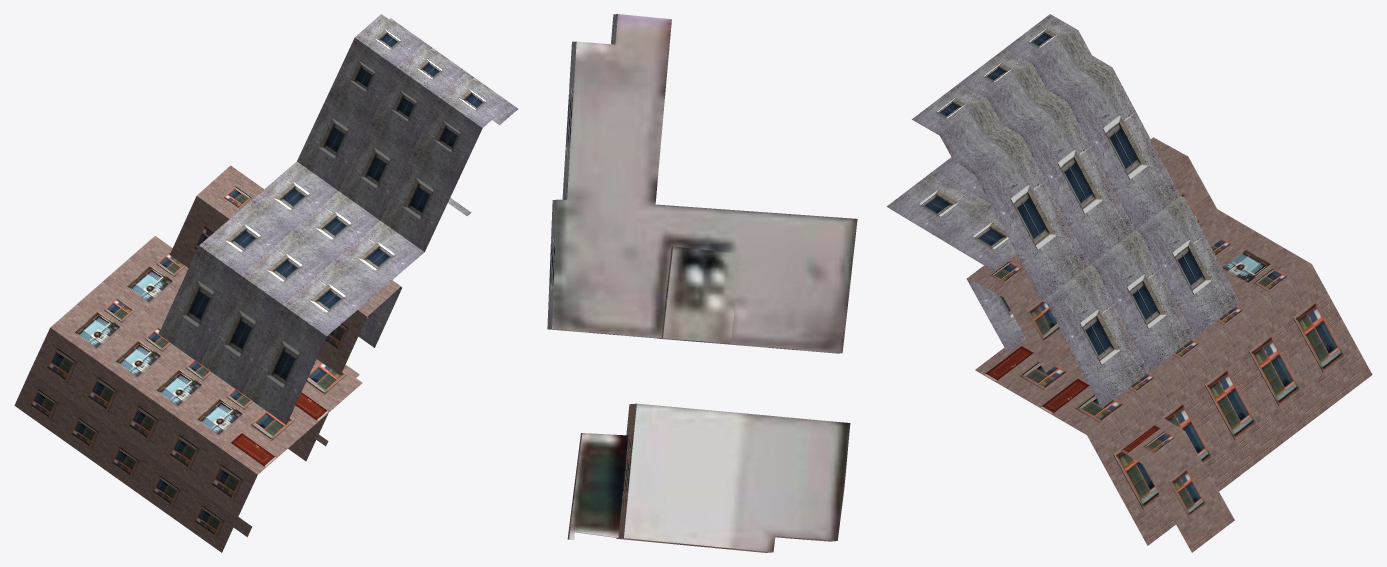
3 renders of one model, left to right at view 1: azimuth 30°, elevation 25°; view 2: azimuth 150°, elevation 25°; view 3: azimuth 270°, elevation 25°, orthographic. The views are drawn at different scales.
Size of the model in its own units: 25.96 by 31.8 by 25.66.
11 materials, 11 textured.
